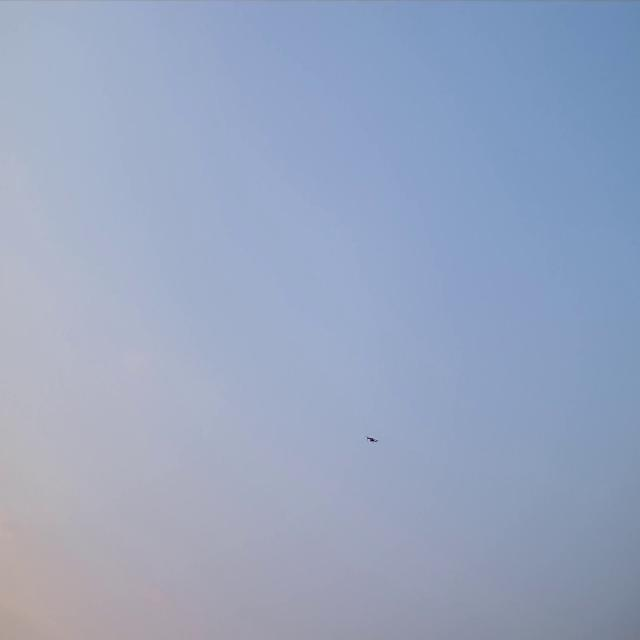UAV: (367, 436, 376, 442)
